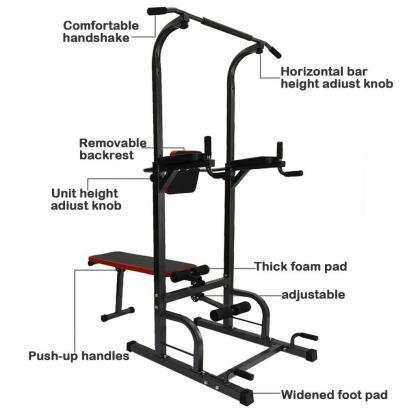chinning dipping: (148, 3, 317, 401)
